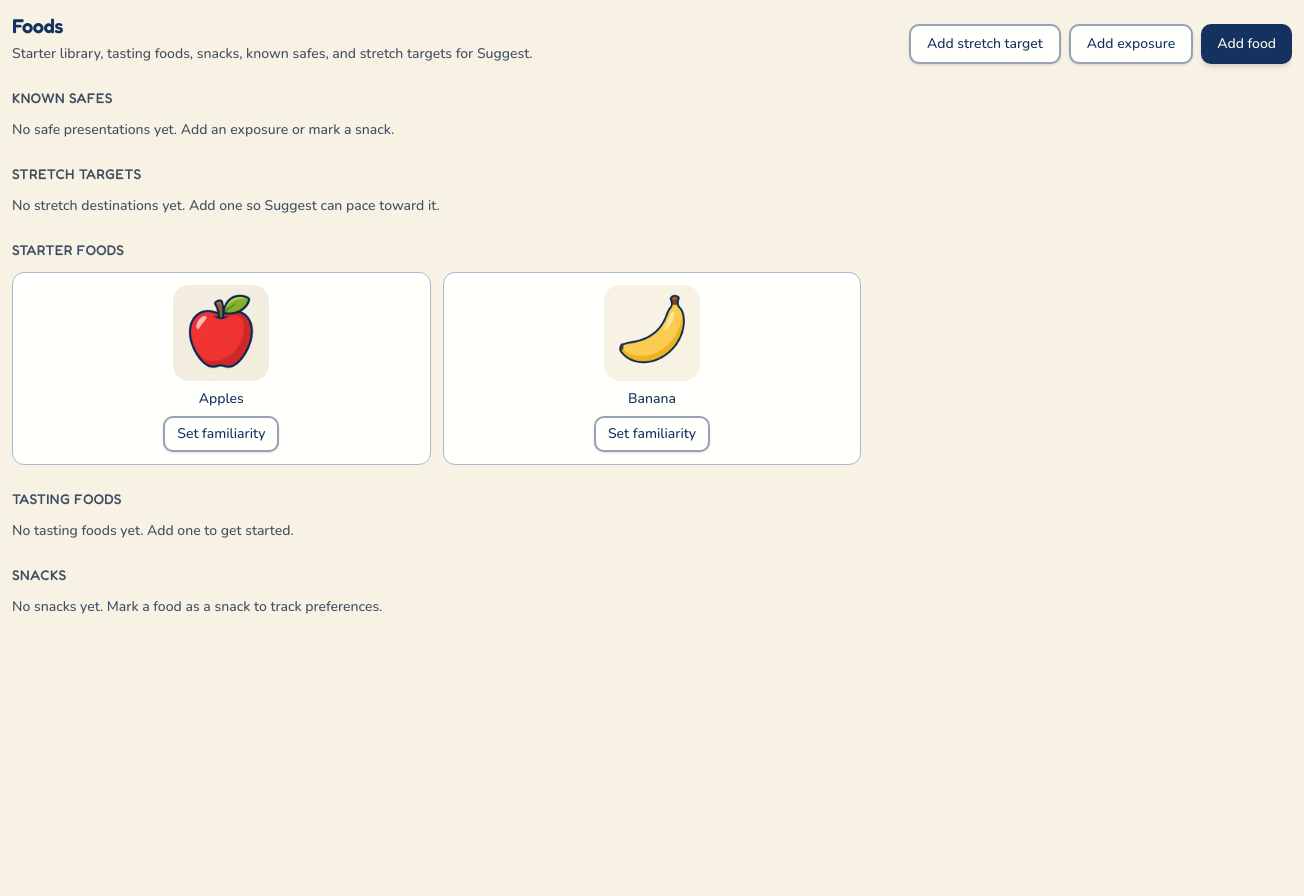
Test: FoodsPage › adds a stretch target by inventing a name
Expected: the text "Apples" is shown, [199, 389, 244, 408]
Click the button "Add stretch target" at coordinates (985, 44), box [909, 24, 1061, 64]
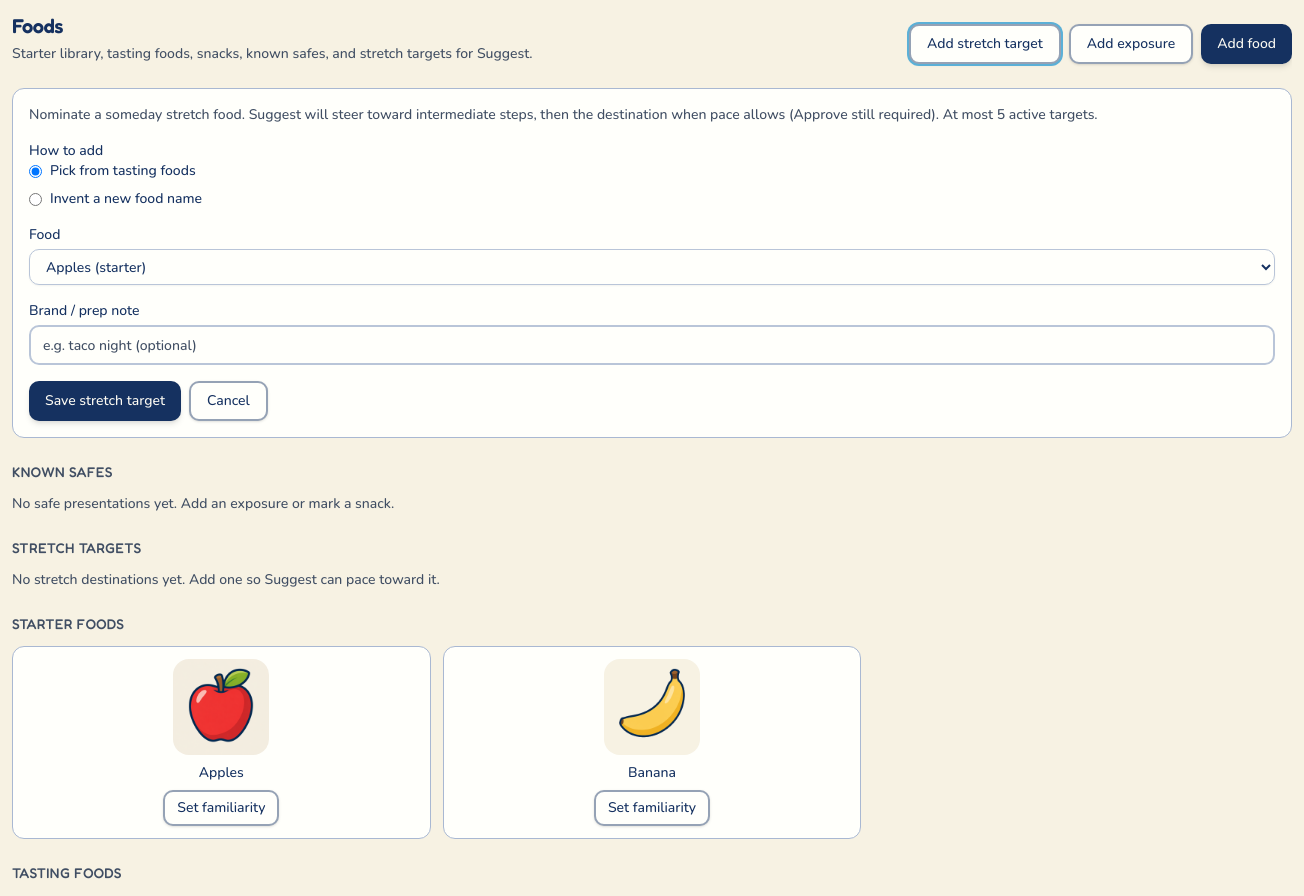
Click the radio button labelled "Invent a new food name" at coordinates (36, 199), box [29, 192, 42, 206]
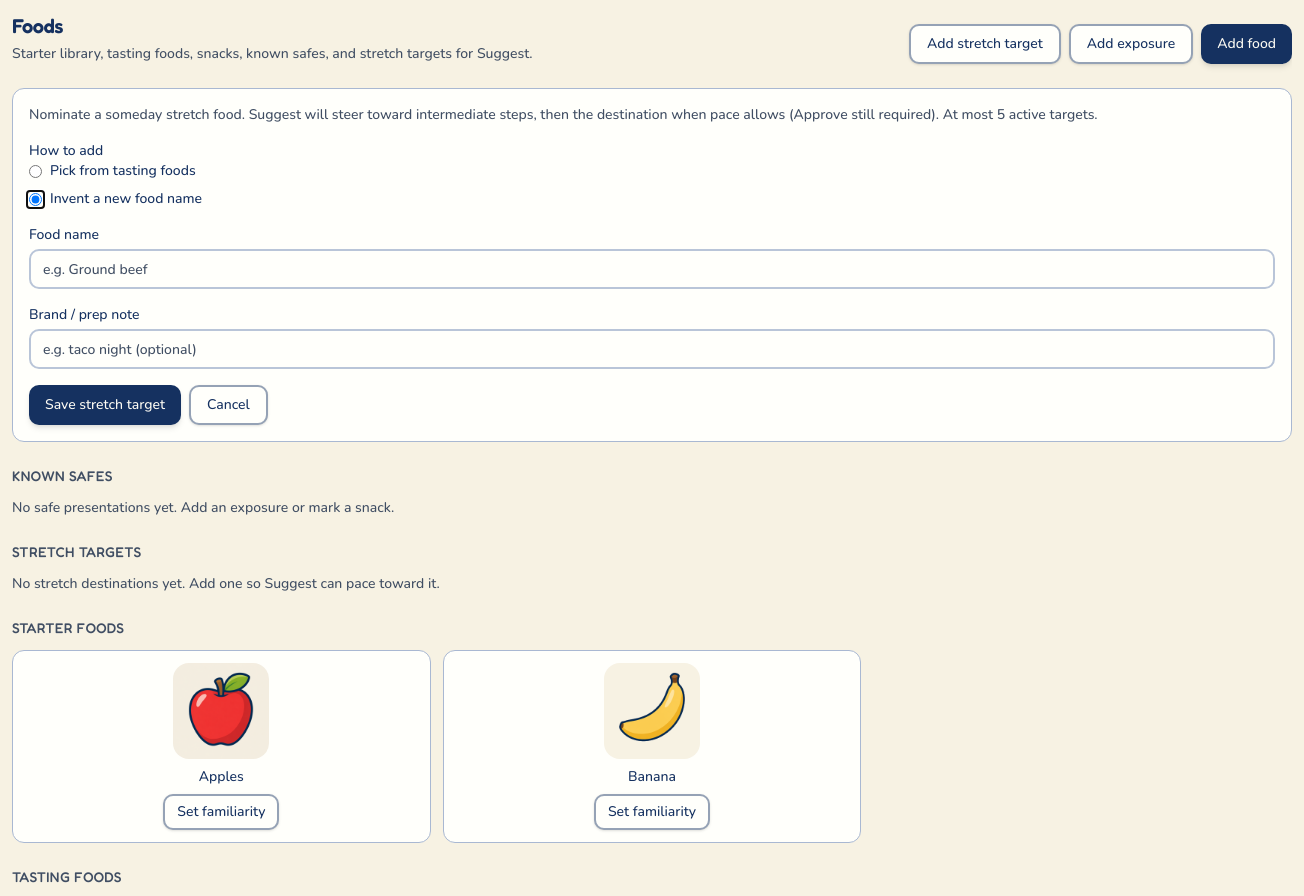
Type "Ground beef" into the field named "Stretch target name" at coordinates (652, 269), box [29, 249, 1275, 289]
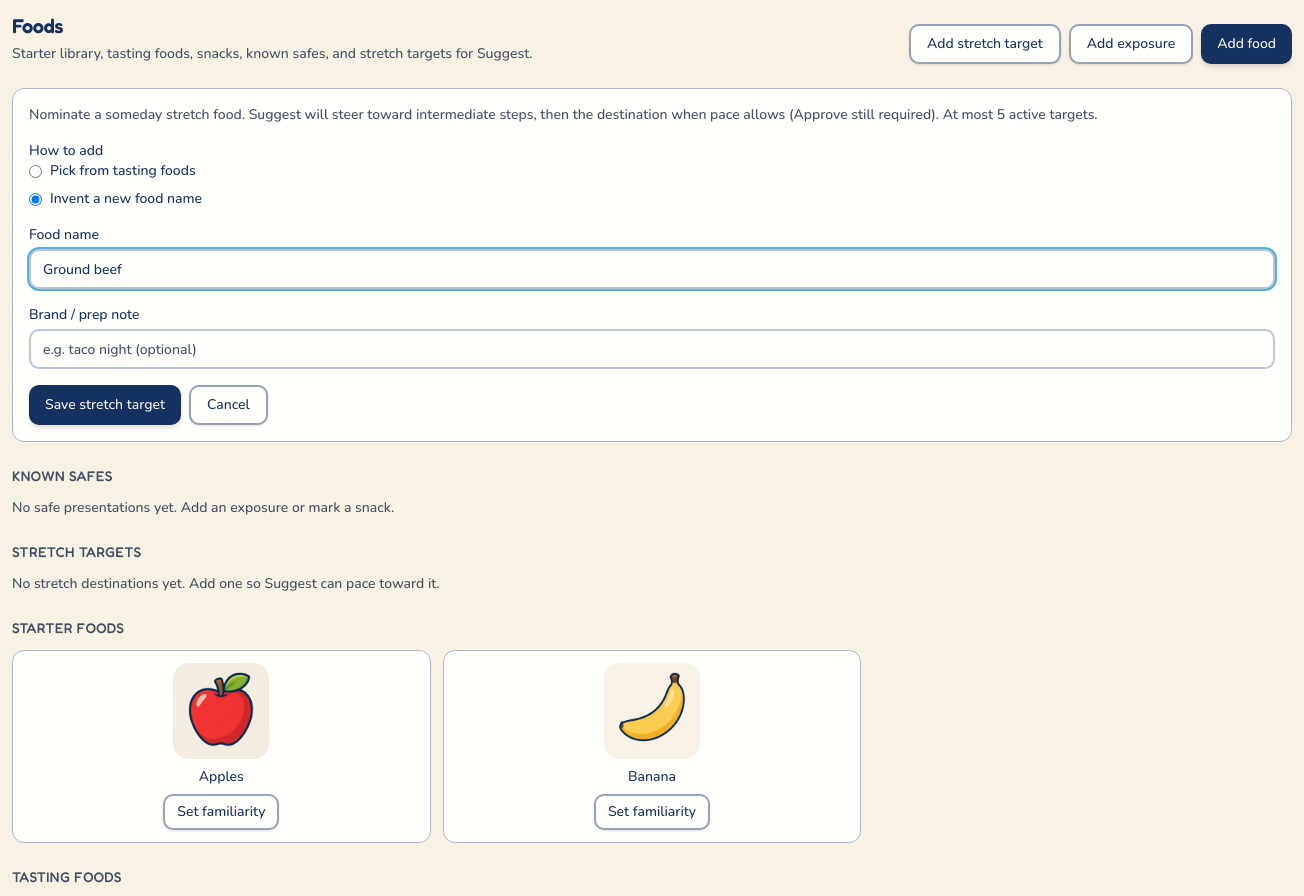
Type "taco night" into the field named "Stretch brand / prep note" at coordinates (652, 349), box [29, 329, 1275, 369]
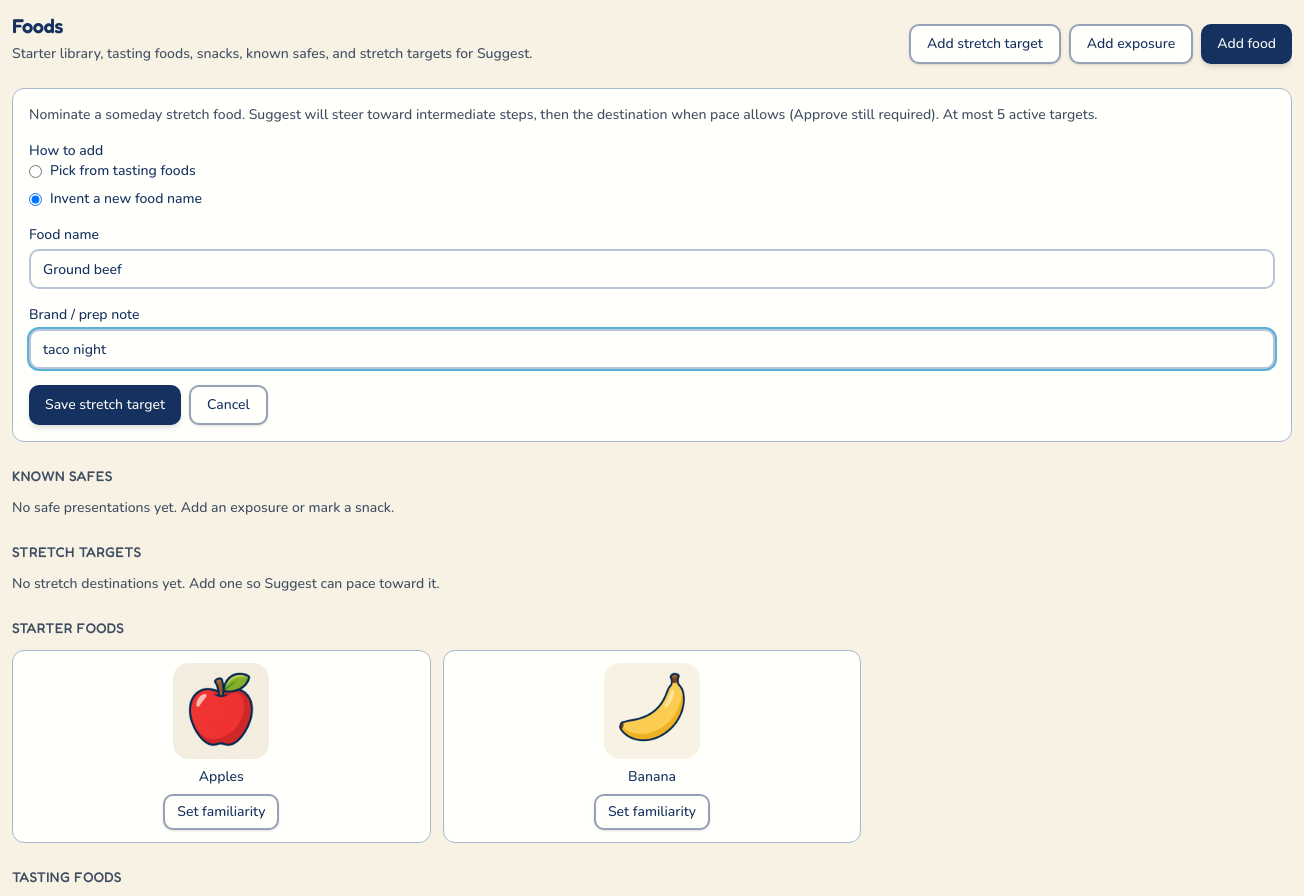
Click the button "Save stretch target" at coordinates (105, 405), box [29, 385, 181, 425]
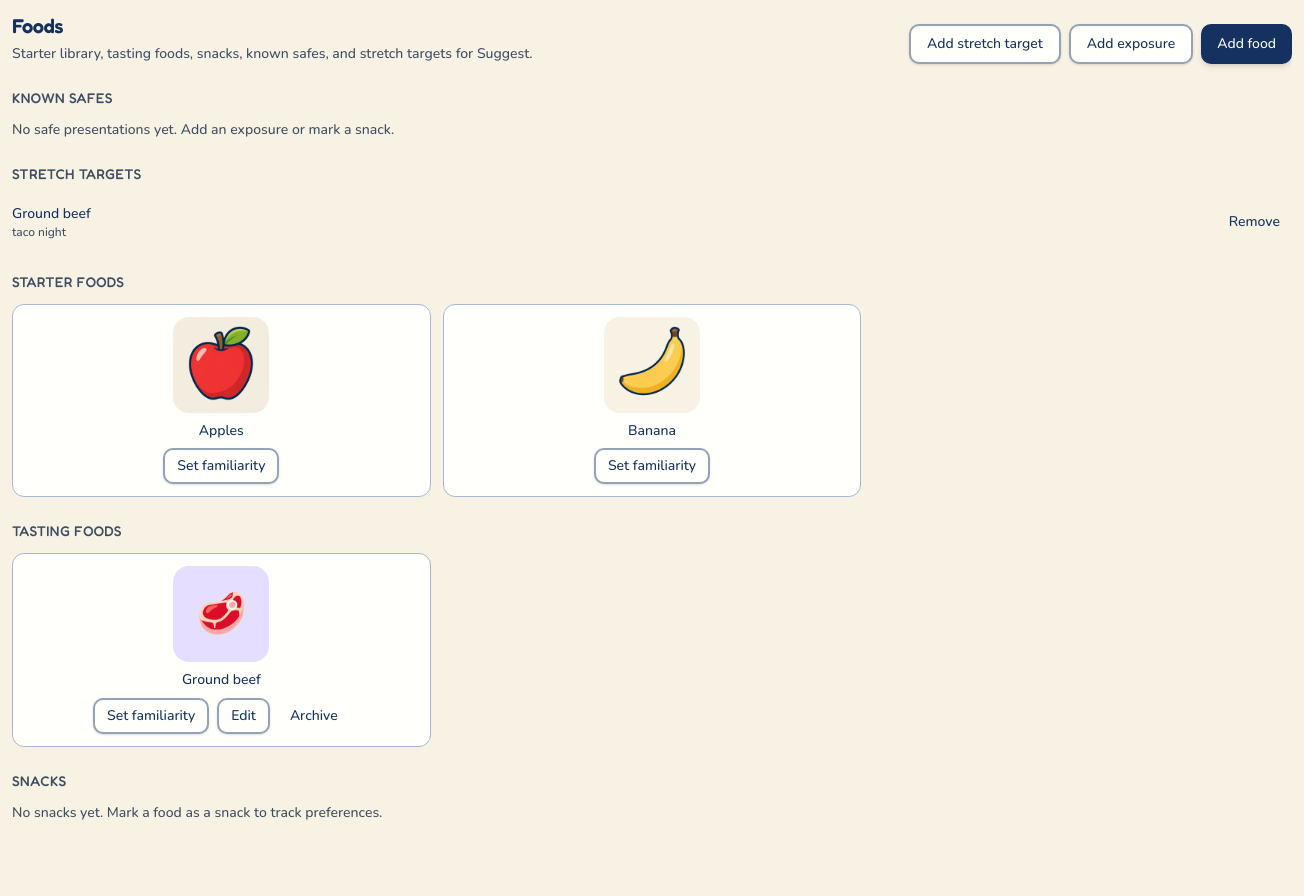
Now the button with aria-label "Remove stretch Ground beef taco night" is shown, box [1217, 204, 1292, 240]
